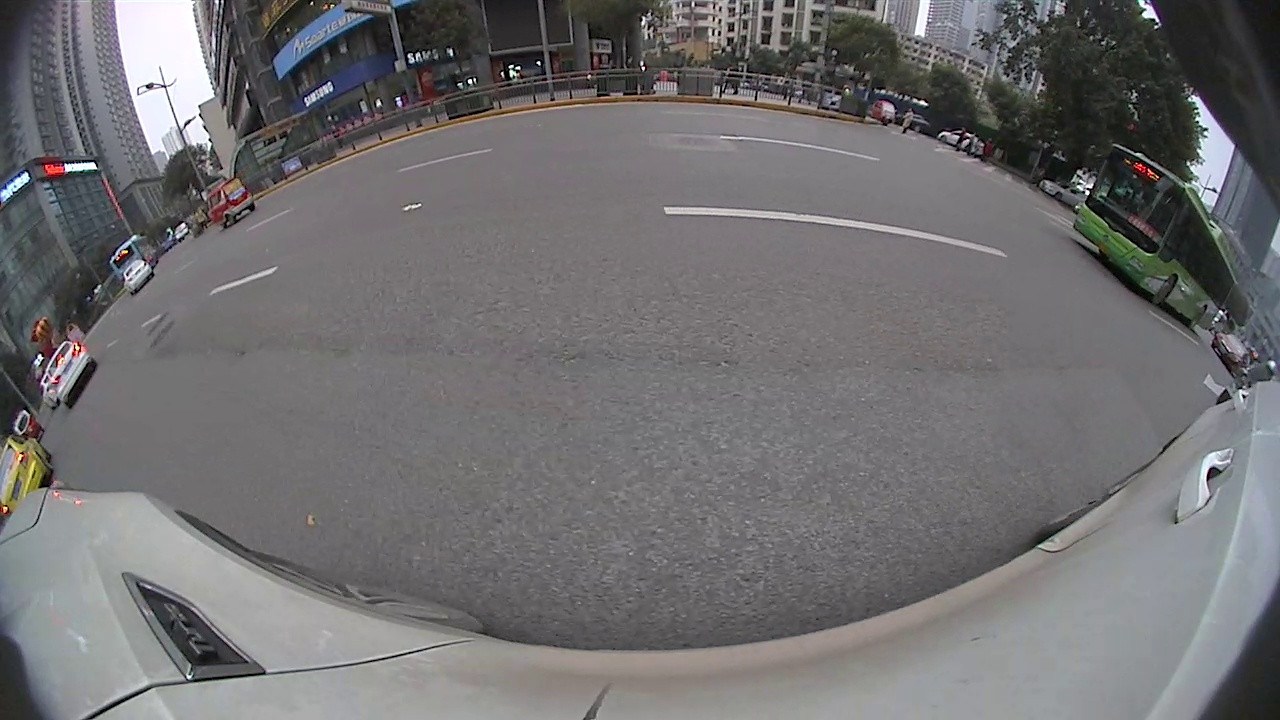bus: (1069, 133, 1251, 343), (107, 233, 164, 284)
car: (0, 433, 54, 516), (44, 339, 97, 410), (1213, 332, 1259, 367), (121, 258, 155, 293), (11, 408, 41, 445), (36, 373, 62, 406)
front: (1149, 270, 1182, 308)
rear: (1186, 303, 1210, 333), (223, 211, 239, 228)
rider: (201, 176, 257, 229), (1213, 359, 1278, 403)
